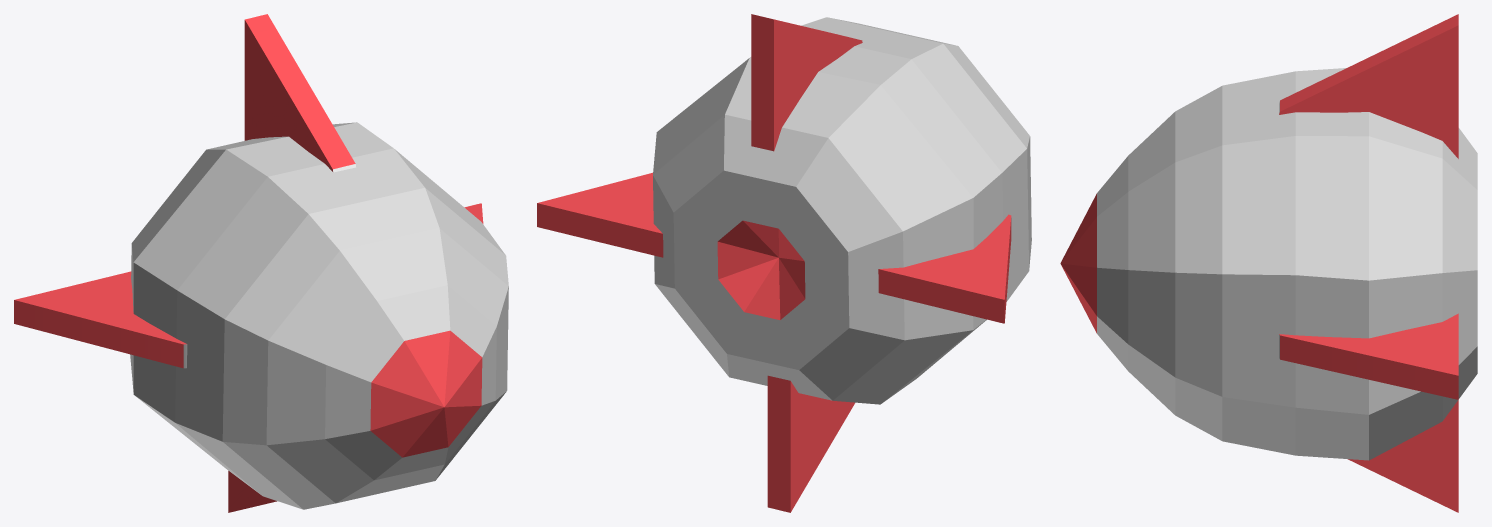
File: missile.fbx
3 views of the same model, side by side, from view 1: azimuth 30°, elevation 25°; view 2: azimuth 150°, elevation 25°; view 3: azimuth 270°, elevation 25° (orthographic).
Visible parts, largest first — view 1: missile_geo; view 2: missile_geo; view 3: missile_geo.
Boxes of the visible parts, bbox=[...] form: missile_geo: bbox=[14, 14, 508, 512]; missile_geo: bbox=[537, 14, 1031, 512]; missile_geo: bbox=[1060, 14, 1477, 512].
Size of the model in its own units: 12.54 by 12.54 by 9.56.
